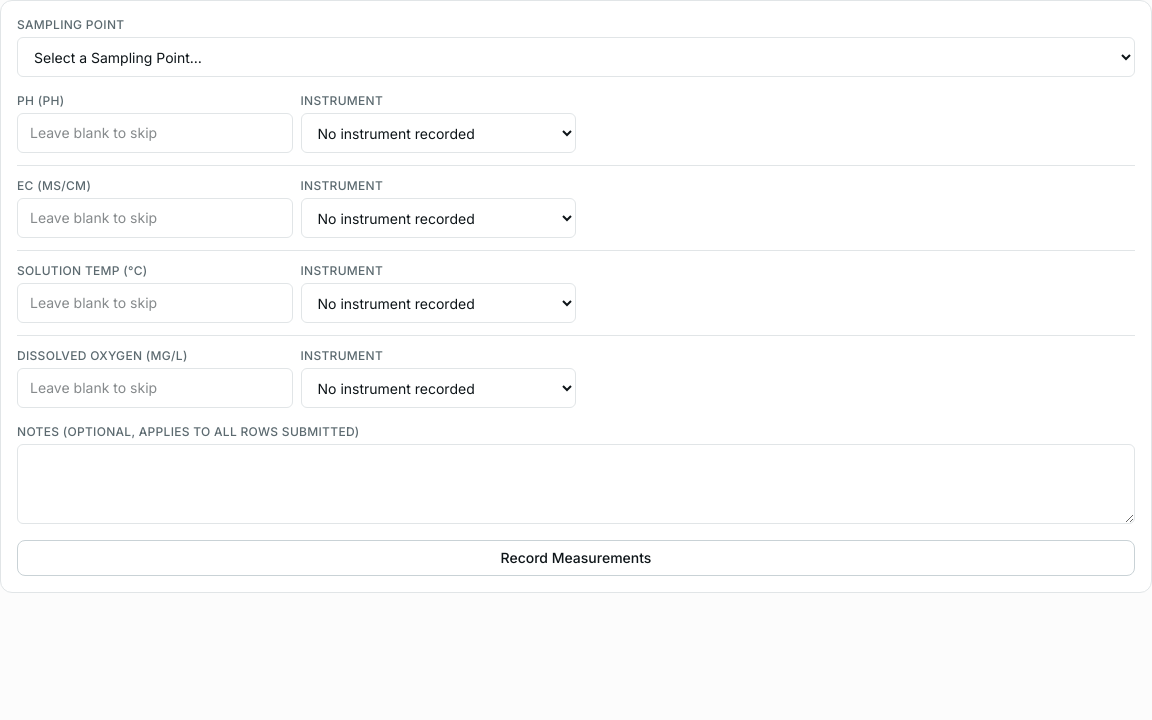
it: MeasurementWorksheet (PILOT-WATER-001B multi-metric entry) › submits exactly one WaterMeasurement for the single metric filled in, never fabricating the other three
Select "SP-1 — Tank A Sampling Point (Reservoir)" in the dropdown labelled "Sampling Point" at [576, 57], box [17, 37, 1135, 77]
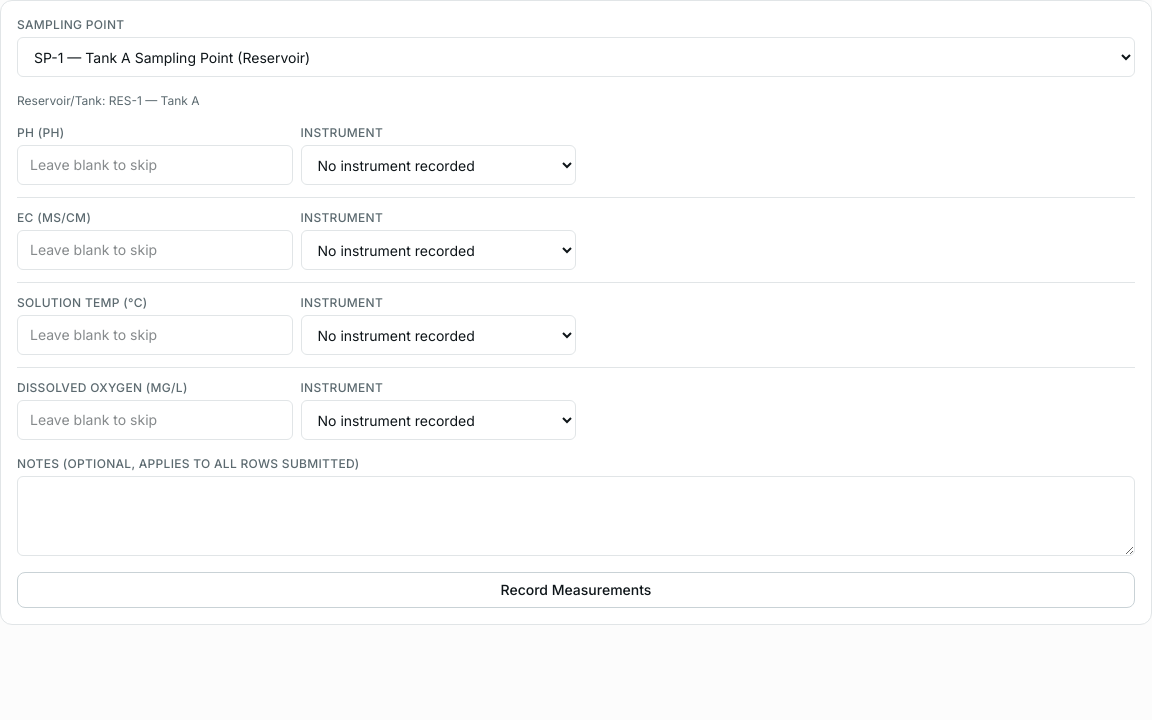
Type "6.1" into the number field labelled "pH (pH)" at [155, 165], box [17, 145, 292, 185]
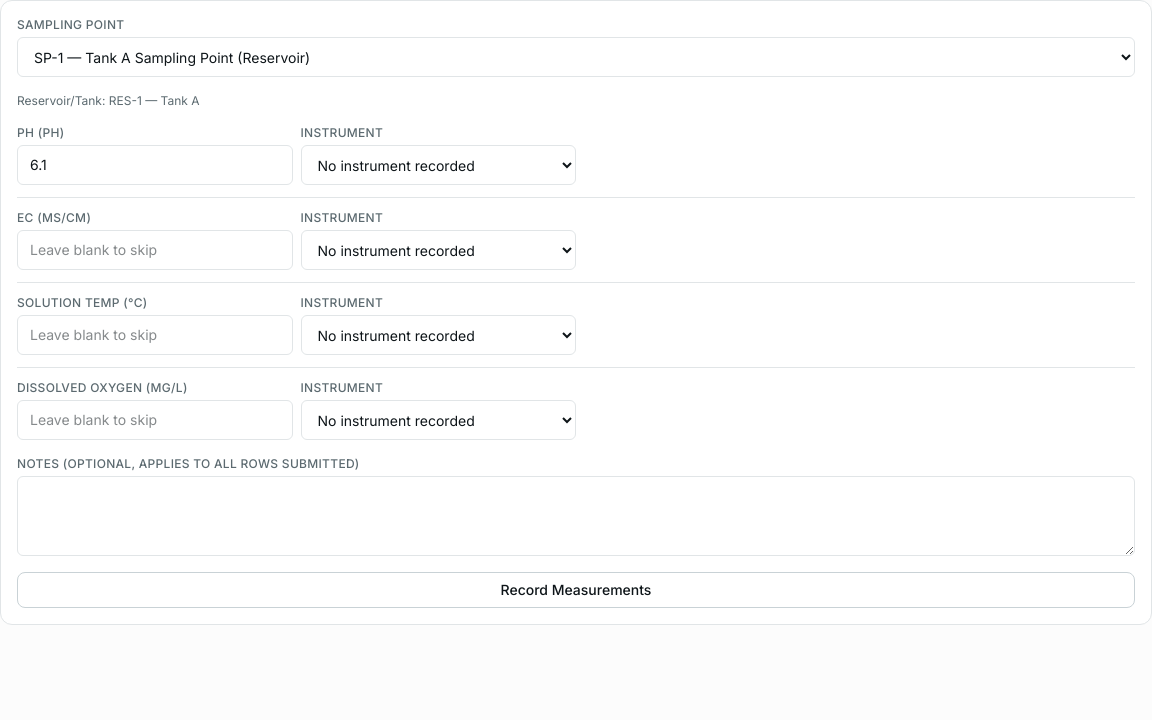
Click the button "Record Measurements" at [576, 590], box [17, 572, 1135, 608]
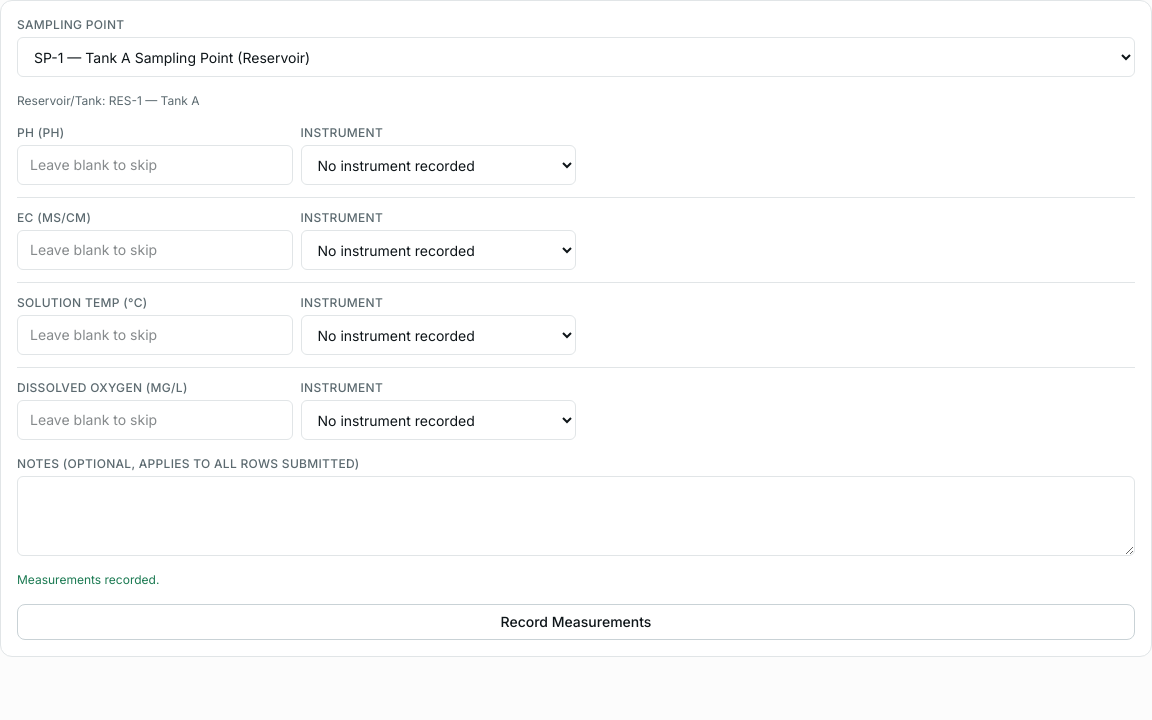
Expected: the text "Measurements recorded." is shown, [17, 572, 159, 587]
